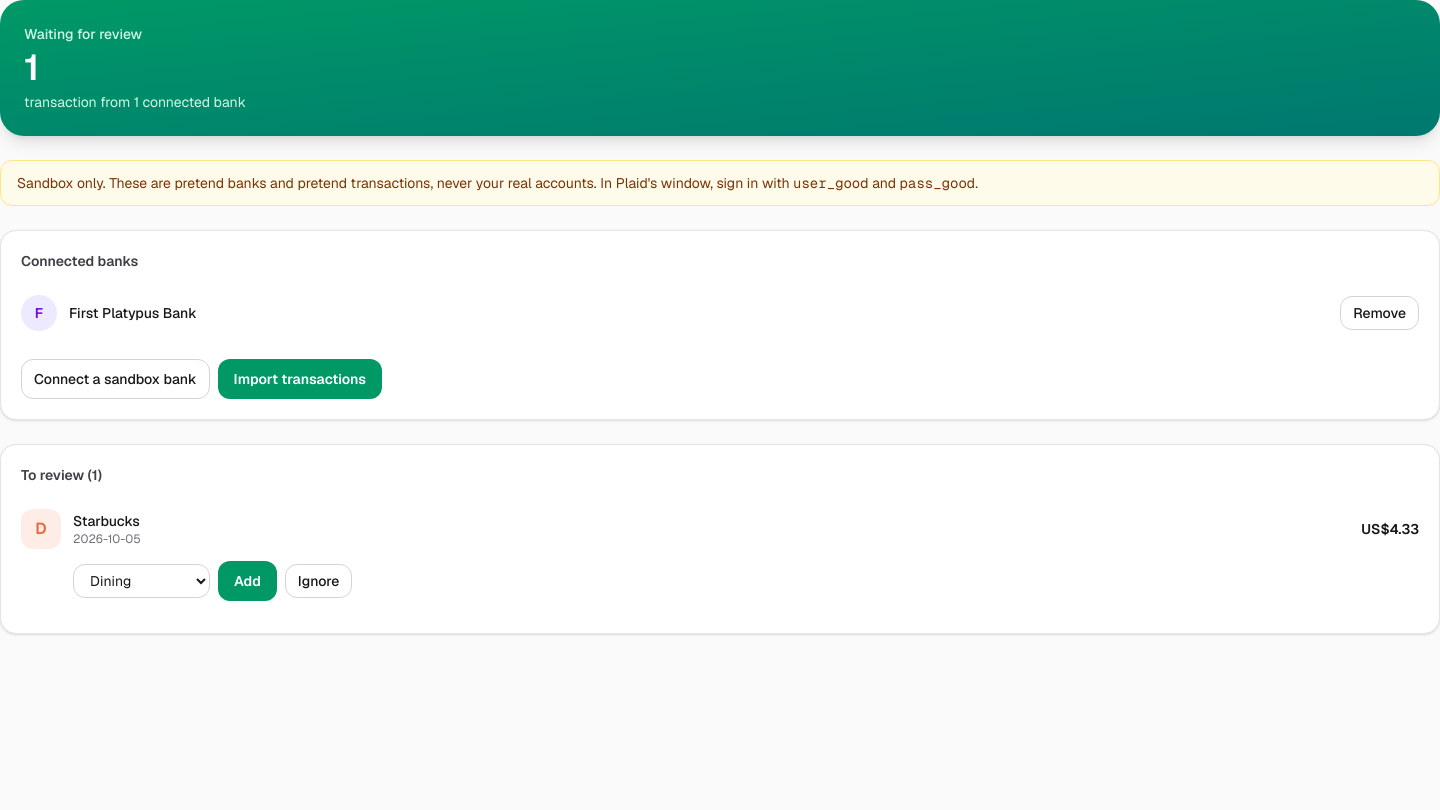
Test case: adding uses the category the user picked
The image size is (1440, 810).
Select "Groceries" in the dropdown named "Category for Starbucks" at {"x": 142, "y": 581}, box [73,564,210,598]
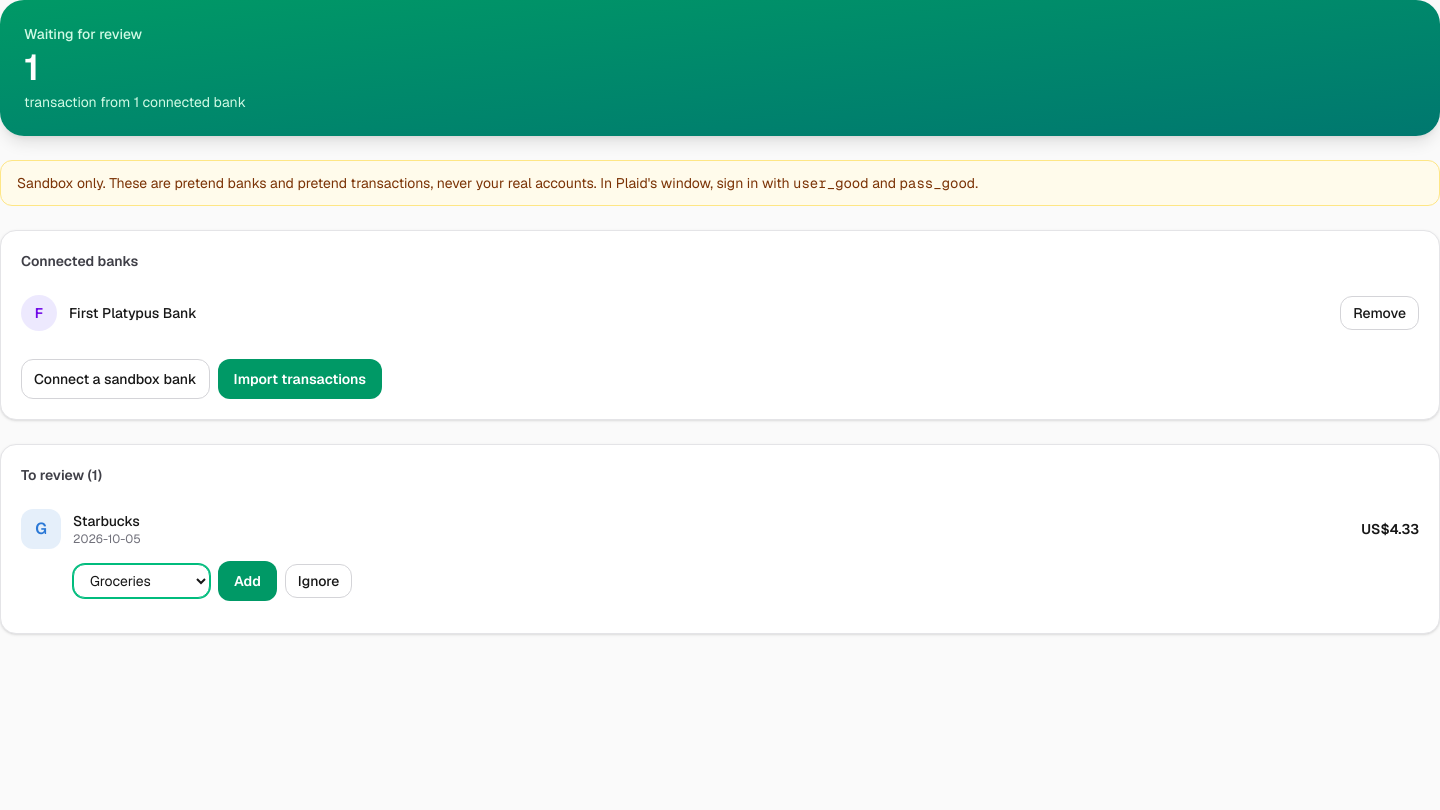
Click the button with aria-label "Add Starbucks to expenses" at {"x": 247, "y": 581}, box [218,561,277,601]
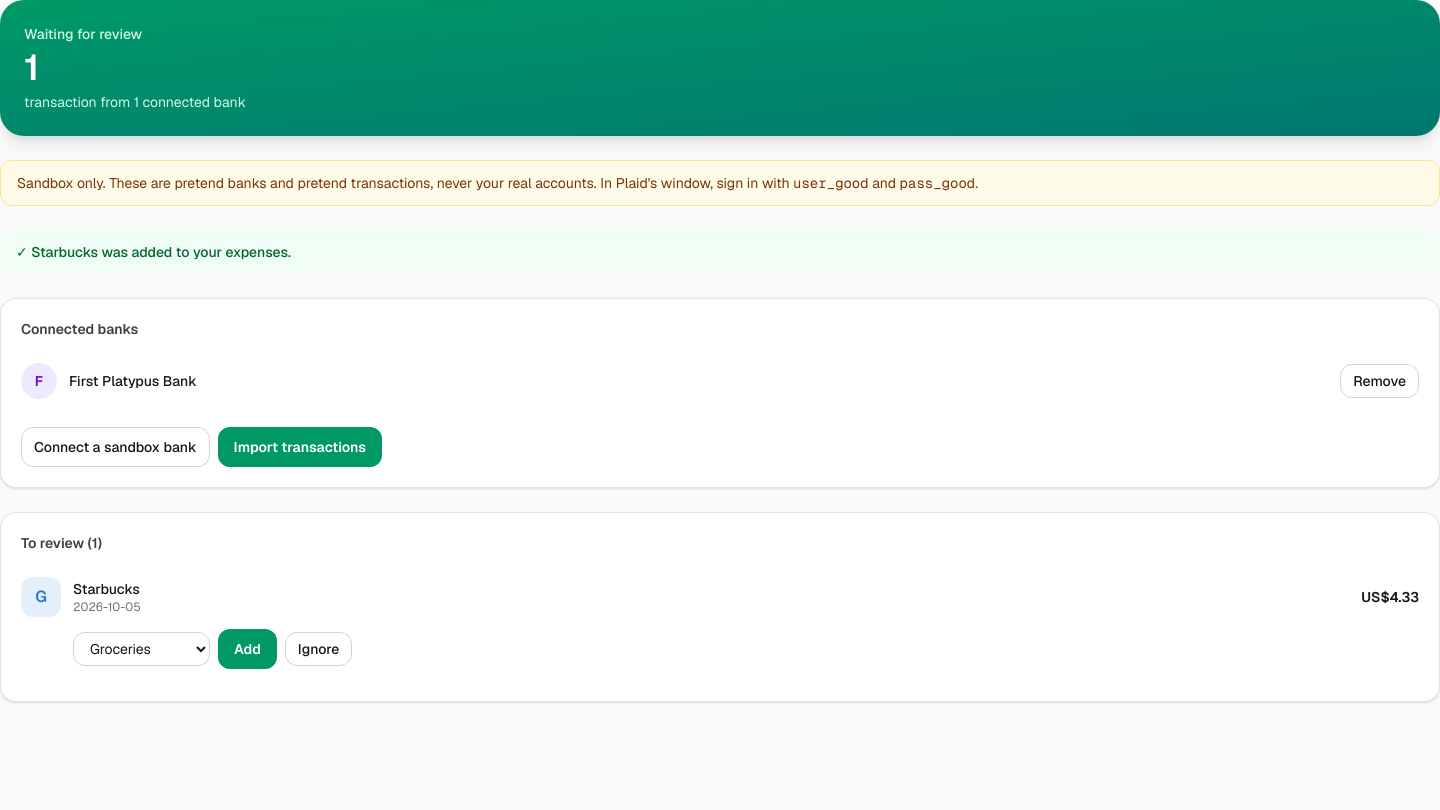
Now the message shows "Starbucks was added to your expenses.", box [31,243,291,261]
